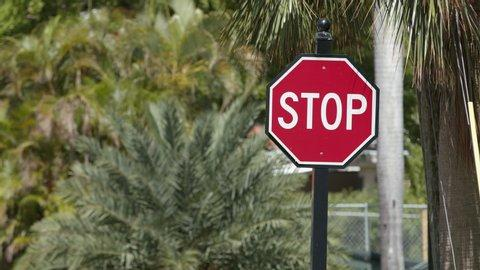Pole: (312, 168, 328, 269)
Sign: (266, 56, 379, 167)
